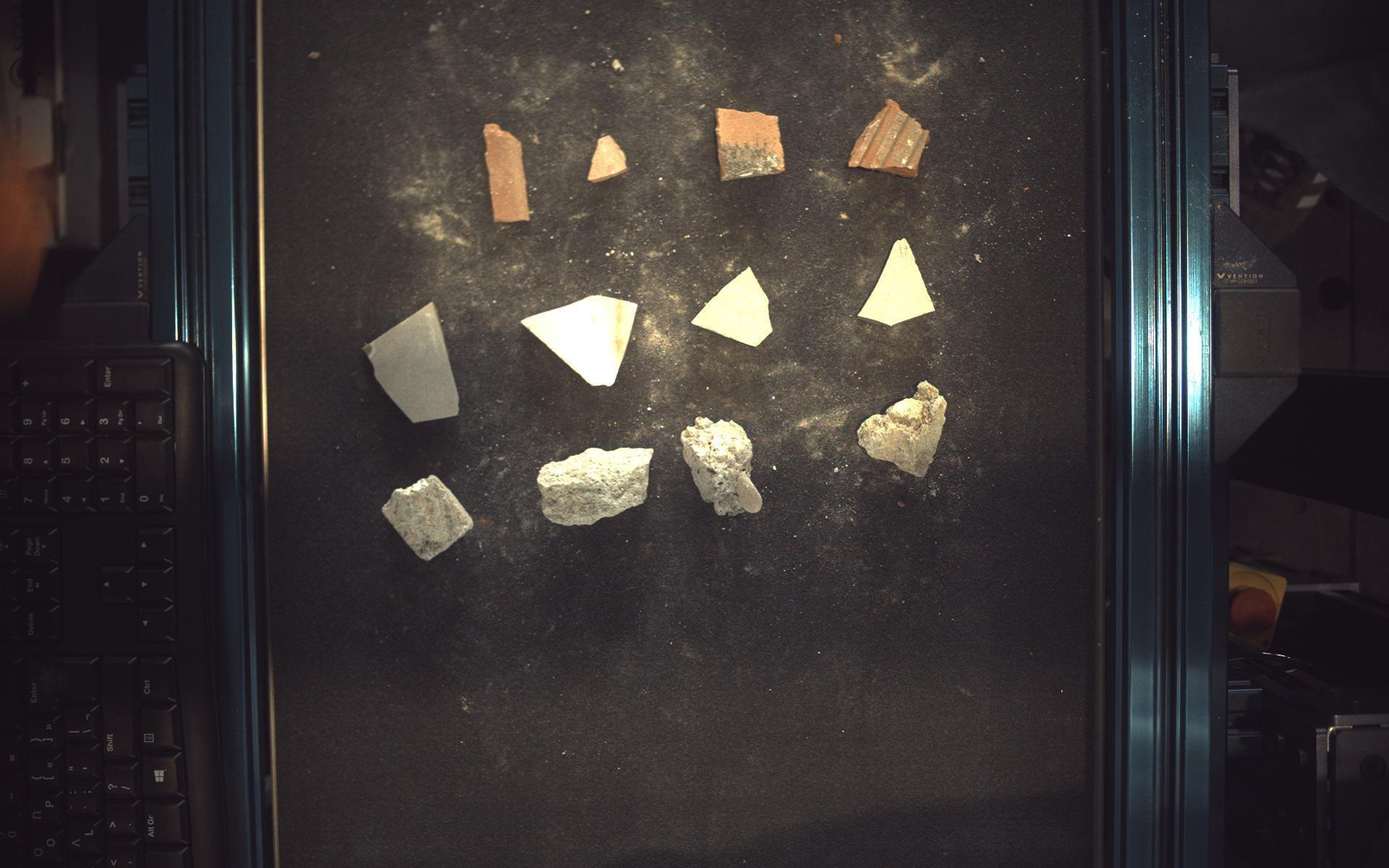brick: (849, 98, 931, 176), (717, 107, 786, 180), (484, 122, 530, 221), (588, 135, 627, 182)
concrete: (538, 448, 655, 526), (859, 380, 949, 477), (681, 417, 764, 516), (382, 475, 473, 561)
tile: (363, 302, 459, 422), (522, 294, 639, 386), (861, 238, 936, 326), (692, 268, 774, 346)
